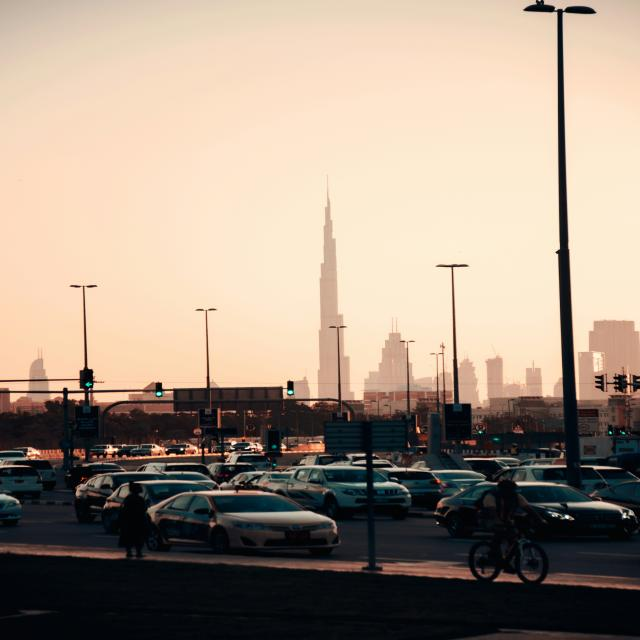Car: (148, 492, 339, 556), (516, 482, 637, 539), (75, 472, 168, 522), (287, 466, 367, 518), (378, 468, 441, 509), (136, 478, 207, 507), (593, 478, 639, 517), (0, 459, 56, 490), (65, 463, 125, 488), (430, 470, 485, 497), (493, 465, 567, 484), (0, 466, 42, 498), (137, 462, 215, 479), (208, 463, 258, 485), (166, 471, 219, 490), (590, 466, 637, 486), (252, 472, 292, 495), (465, 458, 508, 479), (227, 452, 272, 470), (220, 471, 265, 489), (606, 453, 639, 476), (0, 494, 21, 526), (298, 454, 348, 466), (520, 448, 563, 458), (129, 444, 164, 456), (165, 443, 198, 455), (90, 445, 117, 458), (14, 447, 40, 459), (520, 458, 556, 466), (493, 457, 520, 467), (0, 450, 28, 459), (116, 445, 137, 457), (333, 460, 366, 467), (231, 442, 253, 452), (411, 461, 430, 470), (347, 453, 366, 461), (212, 445, 222, 453), (307, 440, 323, 444)
